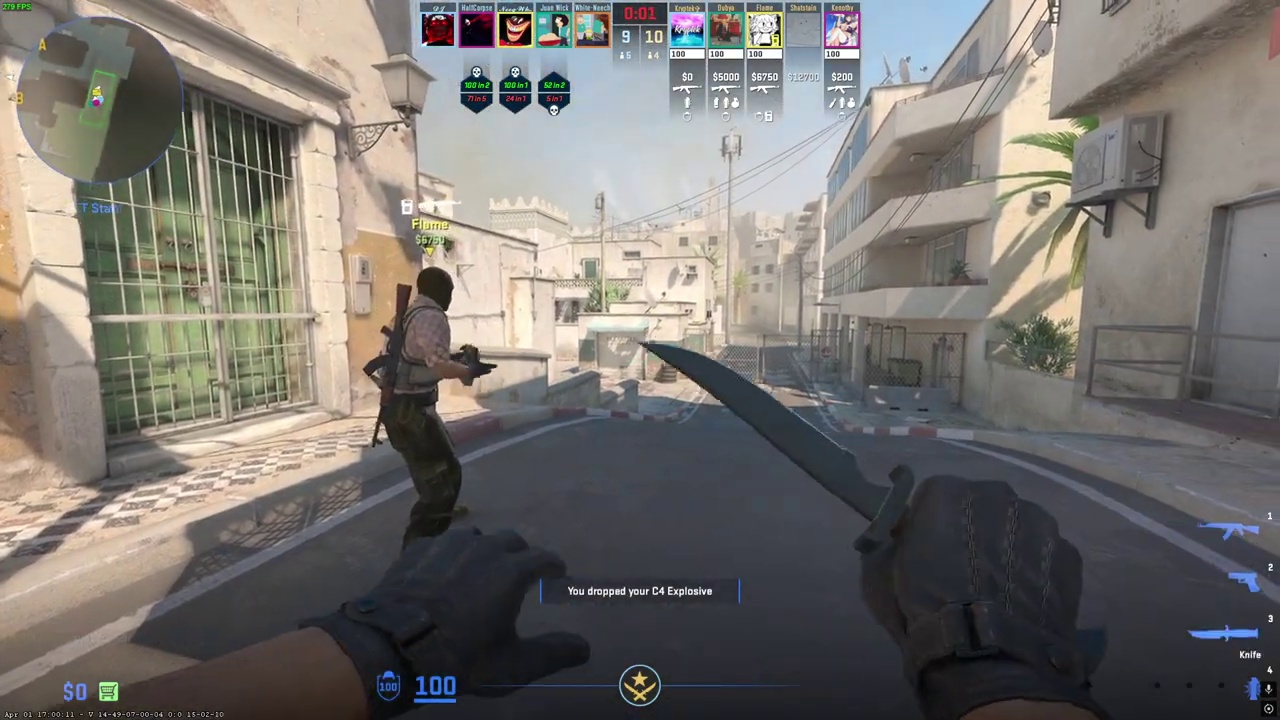Terrorist: (375, 266, 477, 555)
